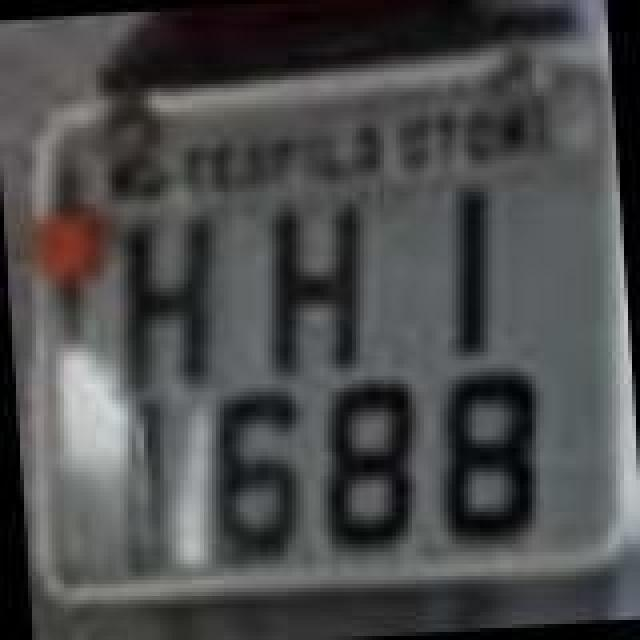1: (444, 182, 500, 362), (124, 402, 180, 566)
6: (208, 386, 312, 566)
8: (436, 366, 548, 546), (322, 374, 430, 554)
H: (264, 190, 376, 386), (112, 210, 224, 398)
